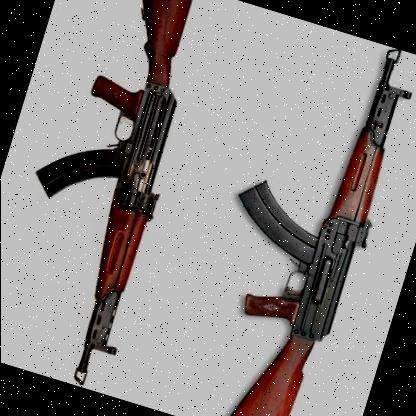rifle: (0, 0, 254, 398), (183, 19, 416, 416)
